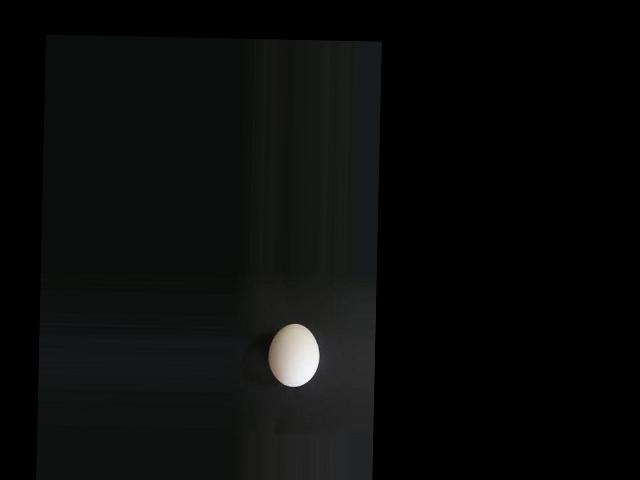egg: (268, 322, 320, 385)
